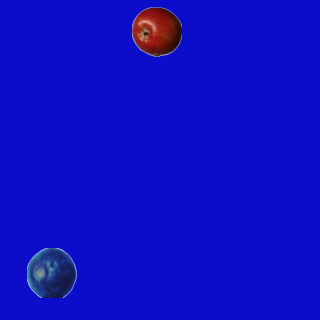Apple Braeburn: (131, 6, 181, 56)
Huckleberry: (26, 247, 76, 297)
